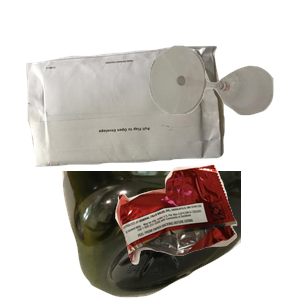glass: (147, 43, 300, 151)
paper: (24, 43, 242, 202)
plastic: (60, 171, 300, 300)
trash: (113, 162, 300, 300)
